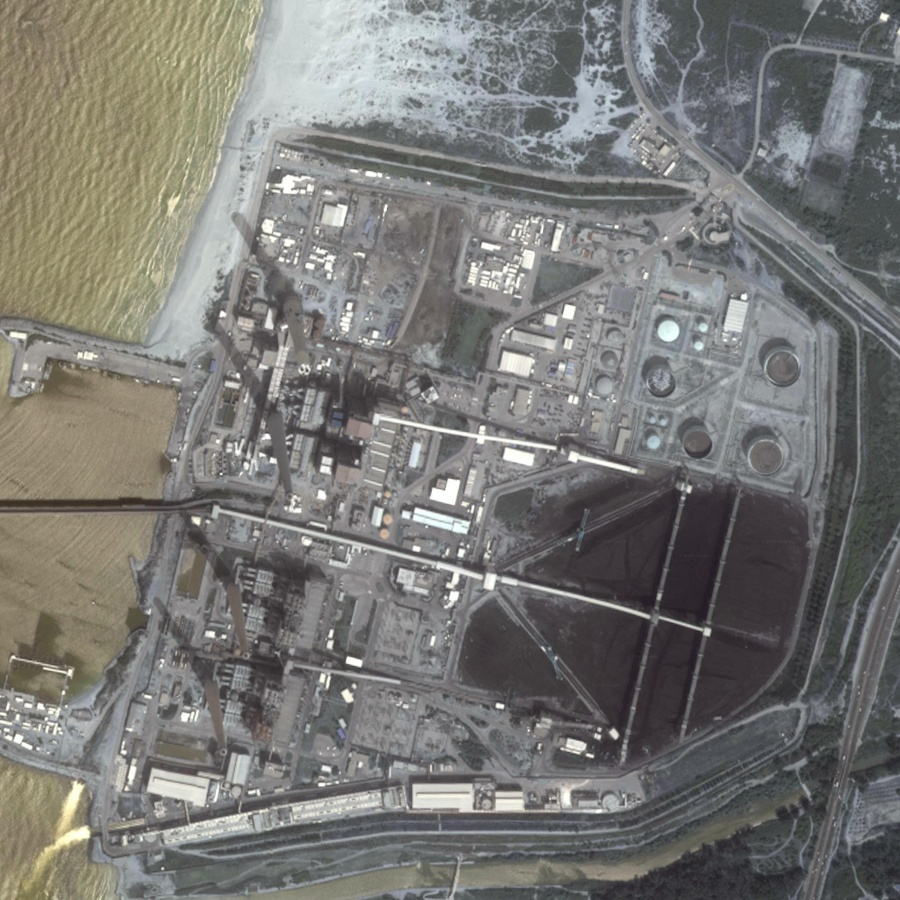PowerPlant: (453, 351, 814, 747), (120, 342, 381, 763)
